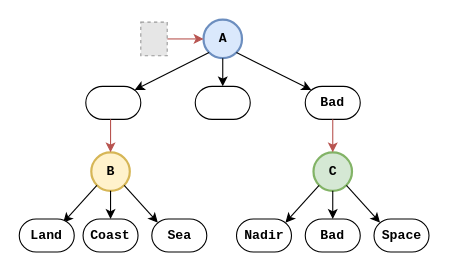
Image size: 449x272. Some labels were removed from this diagram. Grey dashed boxes stand in for pictures. The shapes that lost their labels are listed below. From the top down, each one's box as (x1, y1, x2, y2) in pixels, then its label:
(85, 85, 141, 119): Earth
(194, 85, 250, 119): Edge
